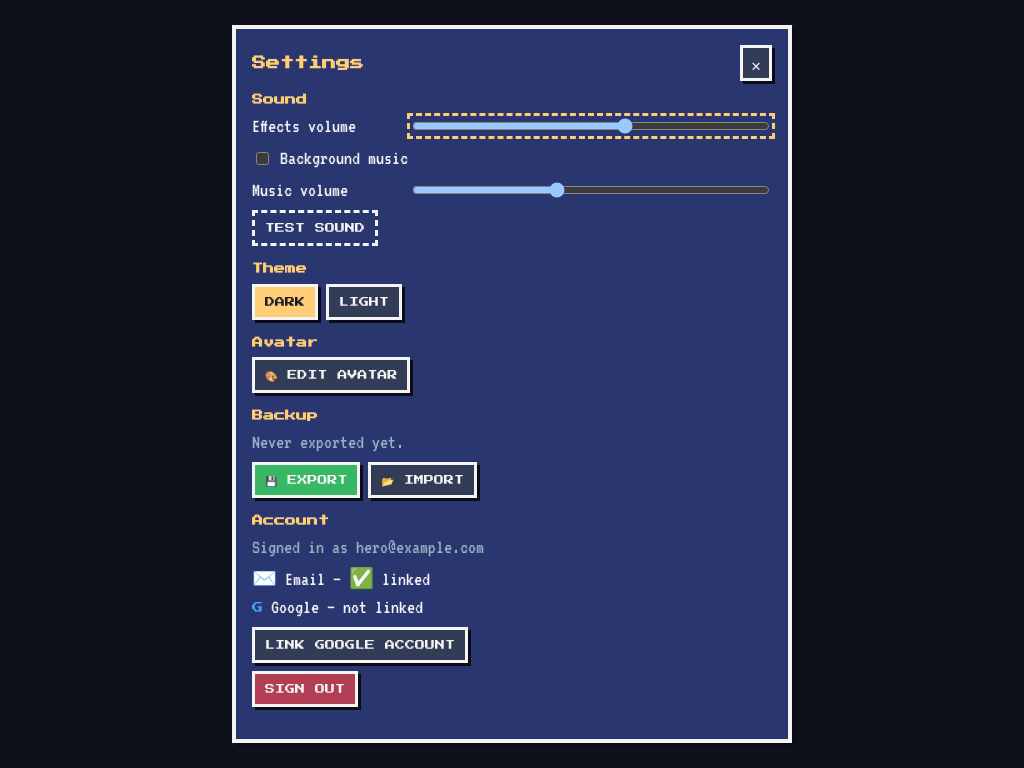
Test case: SettingsPanel sign-in methods › shows linking errors
Click the button "Link Google account" at coordinates (360, 645), box x1=252 y1=627 x2=468 y2=663
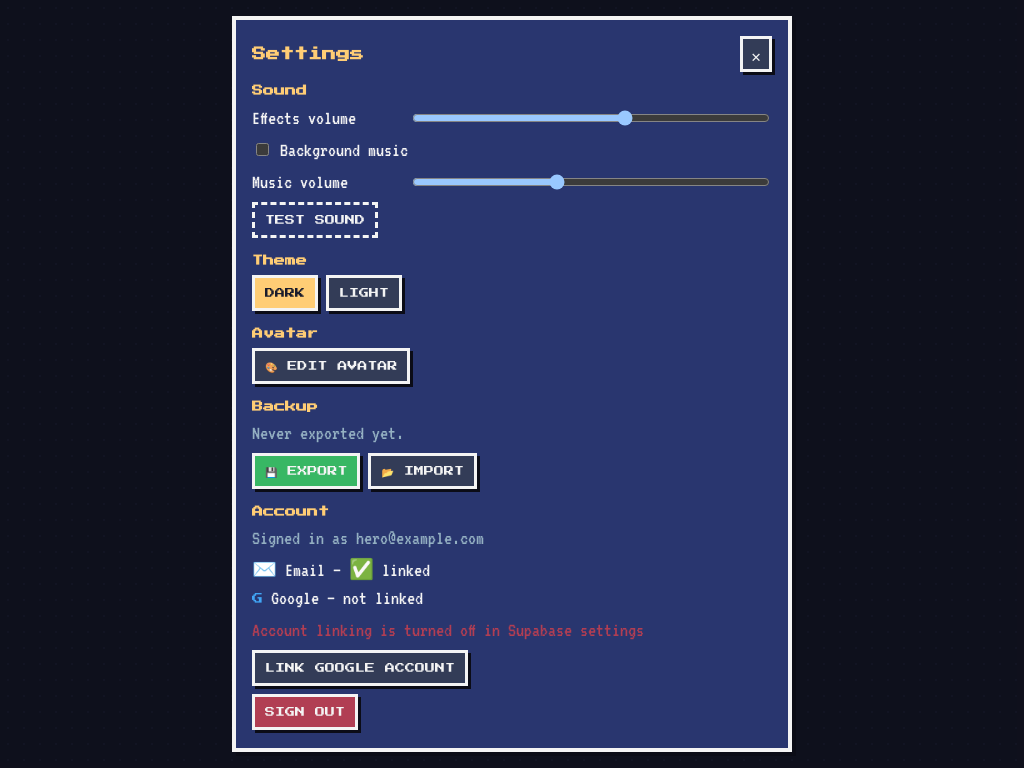
Check: the message reads "Account linking is turned off in Supabase settings", box x1=252 y1=620 x2=644 y2=640
